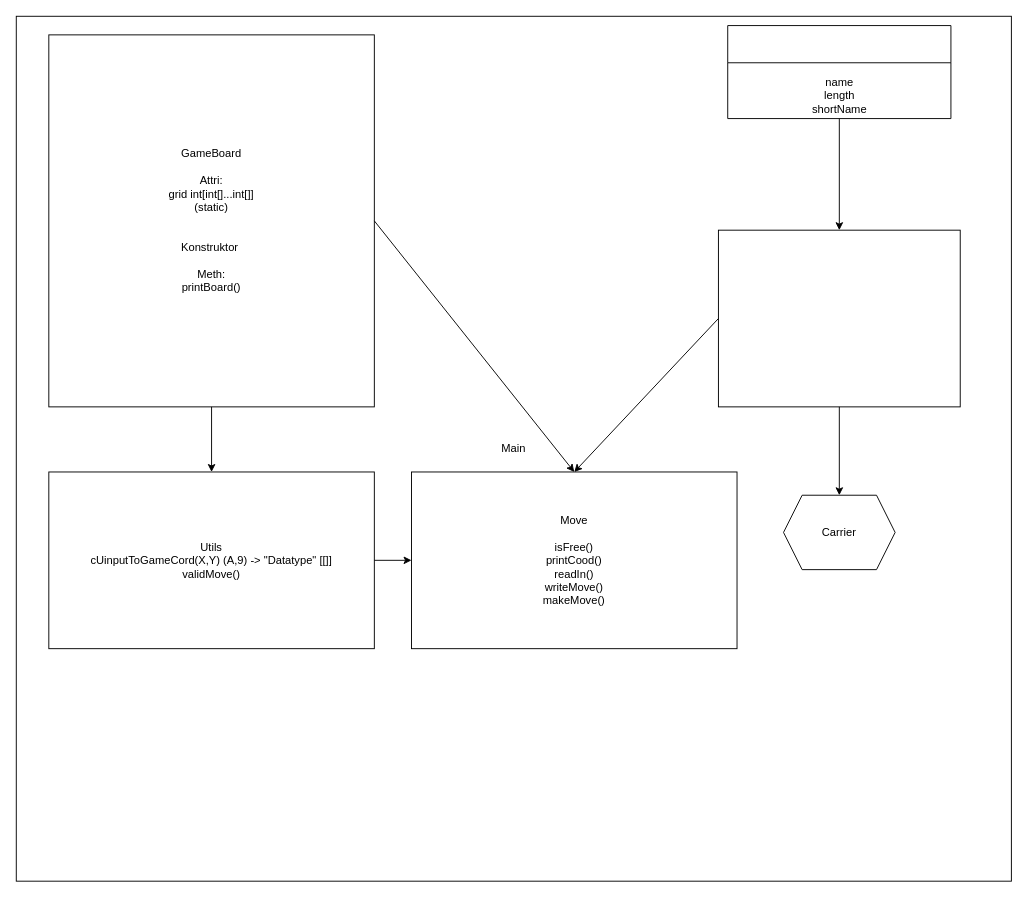
Some shapes in this 1028 by 897 pixel diagram are drawn without their labels. The box of each missing label's shape, as (x1, y1, x2, y2) in pixels:
abstract class: ShipI: (727, 25, 951, 119)
Ship String name int length String abbriv: (717, 229, 960, 407)
